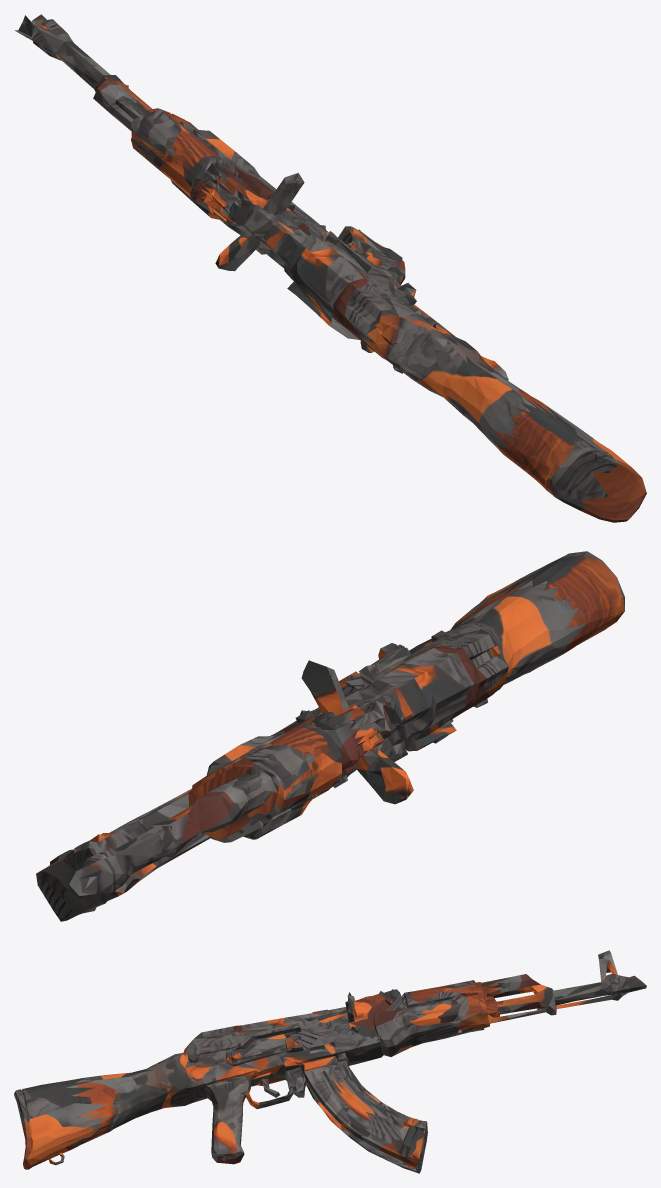
The model's file is akm.obj.
The picture shows the model from 3 angles, top to bottom: view 1: azimuth 30°, elevation 25°; view 2: azimuth 150°, elevation 25°; view 3: azimuth 270°, elevation 25°; orthographic projection. The views are drawn at different scales.
Parts seen in each view (by area): view 1: akm; view 2: akm; view 3: akm.
Boxes of the visible parts, x1,y1,x2,y2 form: akm: (14, 14, 646, 522); akm: (36, 551, 624, 921); akm: (14, 950, 646, 1173).
Bounding box in the file's own units: 0.2971 × 0.277 × 0.9835.
